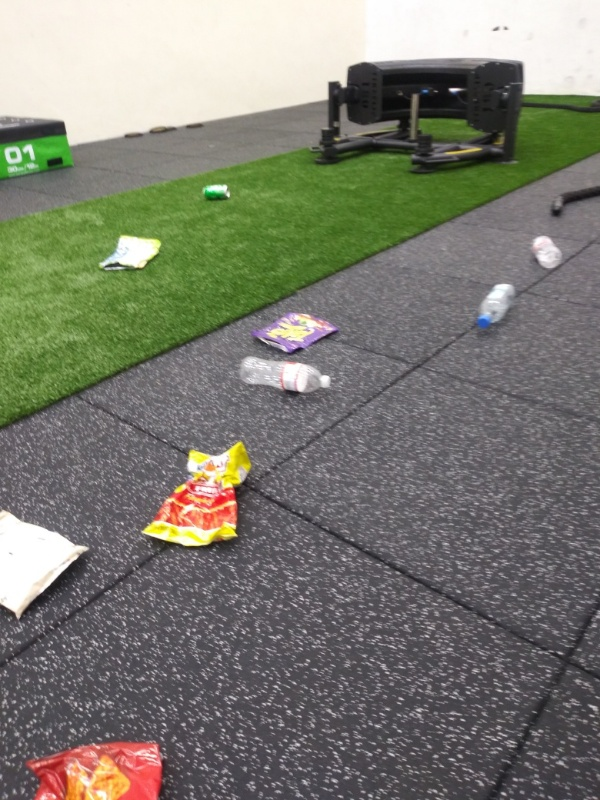bag: (134, 436, 255, 553), (1, 493, 96, 626), (21, 733, 178, 800), (250, 307, 346, 354), (95, 228, 169, 276)
bottle: (236, 354, 337, 401), (473, 278, 525, 334), (524, 230, 567, 274)
can: (200, 177, 233, 203)
